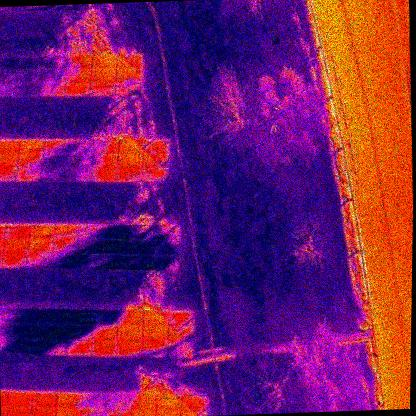Hotspot: (4, 223, 30, 240), (0, 165, 19, 181)
Normal: (116, 325, 144, 342), (6, 390, 34, 407), (91, 340, 118, 357), (91, 167, 119, 183), (142, 325, 169, 341), (56, 392, 83, 408), (156, 394, 183, 410), (118, 152, 144, 168), (3, 238, 29, 254), (131, 394, 157, 410), (32, 392, 57, 408), (65, 82, 91, 97), (91, 68, 117, 82), (93, 54, 117, 68), (0, 151, 19, 166), (0, 139, 20, 153), (20, 140, 43, 152), (5, 406, 32, 416), (57, 406, 82, 416), (31, 407, 57, 416)
Shadow: (2, 252, 29, 270), (168, 310, 195, 328), (142, 340, 169, 358), (168, 341, 195, 359), (116, 166, 144, 183), (18, 338, 44, 356), (39, 166, 68, 182), (154, 224, 181, 241), (28, 252, 55, 269), (78, 253, 105, 270), (103, 253, 130, 270), (153, 254, 180, 271), (17, 323, 44, 340), (66, 340, 93, 357), (116, 341, 143, 358), (114, 80, 142, 96), (65, 166, 93, 182), (79, 224, 107, 240), (116, 310, 144, 326), (66, 325, 94, 341), (129, 224, 155, 241), (154, 239, 180, 256), (54, 253, 80, 270), (68, 140, 95, 156), (142, 167, 169, 183), (78, 238, 105, 254), (128, 254, 155, 270), (17, 308, 44, 324), (142, 310, 169, 326), (42, 324, 69, 340), (91, 326, 118, 342), (168, 326, 195, 342), (81, 392, 108, 408), (181, 396, 208, 412), (17, 165, 42, 182), (44, 308, 69, 325), (107, 392, 132, 409), (39, 81, 65, 97), (94, 138, 120, 154), (42, 150, 68, 166), (104, 239, 130, 255), (92, 310, 118, 326), (145, 138, 170, 154), (67, 152, 92, 168), (144, 152, 169, 168), (105, 224, 130, 240), (53, 238, 78, 254), (68, 310, 93, 326), (68, 54, 93, 70), (91, 81, 117, 96), (119, 139, 145, 154), (66, 69, 92, 84), (30, 224, 55, 239), (14, 82, 40, 96), (43, 138, 69, 152), (92, 154, 118, 168), (54, 224, 80, 238), (41, 68, 67, 82), (29, 238, 54, 252), (129, 240, 154, 254), (43, 54, 68, 68), (16, 69, 41, 83), (116, 67, 141, 81), (18, 152, 42, 166), (44, 340, 68, 354), (19, 55, 43, 69), (118, 54, 142, 68), (81, 407, 106, 416)
